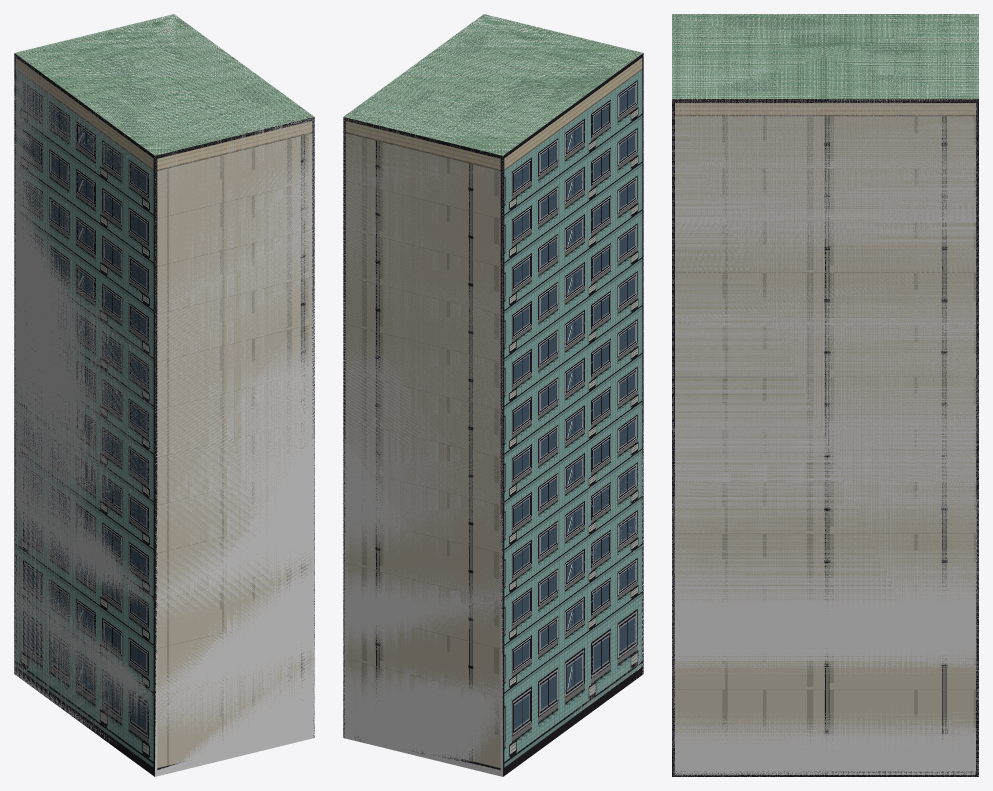
The picture shows the model from 3 angles, left to right: view 1: azimuth 30°, elevation 25°; view 2: azimuth 150°, elevation 25°; view 3: azimuth 270°, elevation 25°; orthographic projection. The views are drawn at different scales.
Visible parts, largest first — view 1: 19D-E06, COL_19D-E06_0; view 2: 19D-E06, COL_19D-E06_0; view 3: 19D-E06, COL_19D-E06_0.
Part boxes in pixels (x1=…): 19D-E06: x1=14, y1=14, x2=314, y2=776; COL_19D-E06_0: x1=14, y1=14, x2=314, y2=776; 19D-E06: x1=343, y1=14, x2=643, y2=776; COL_19D-E06_0: x1=343, y1=14, x2=643, y2=776; 19D-E06: x1=672, y1=14, x2=978, y2=776; COL_19D-E06_0: x1=672, y1=14, x2=978, y2=776.
Size of the model in its own units: 10.5 by 39 by 16.
Materials: 1 (1 with a texture image).
